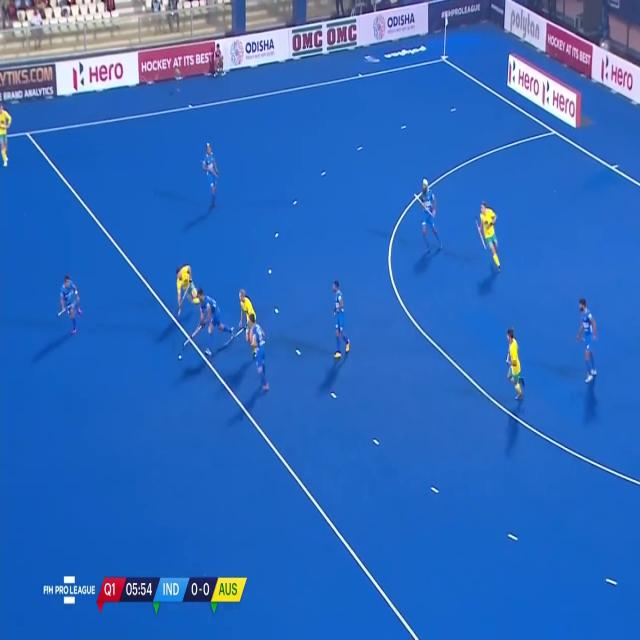ball: (177, 348, 184, 364)
